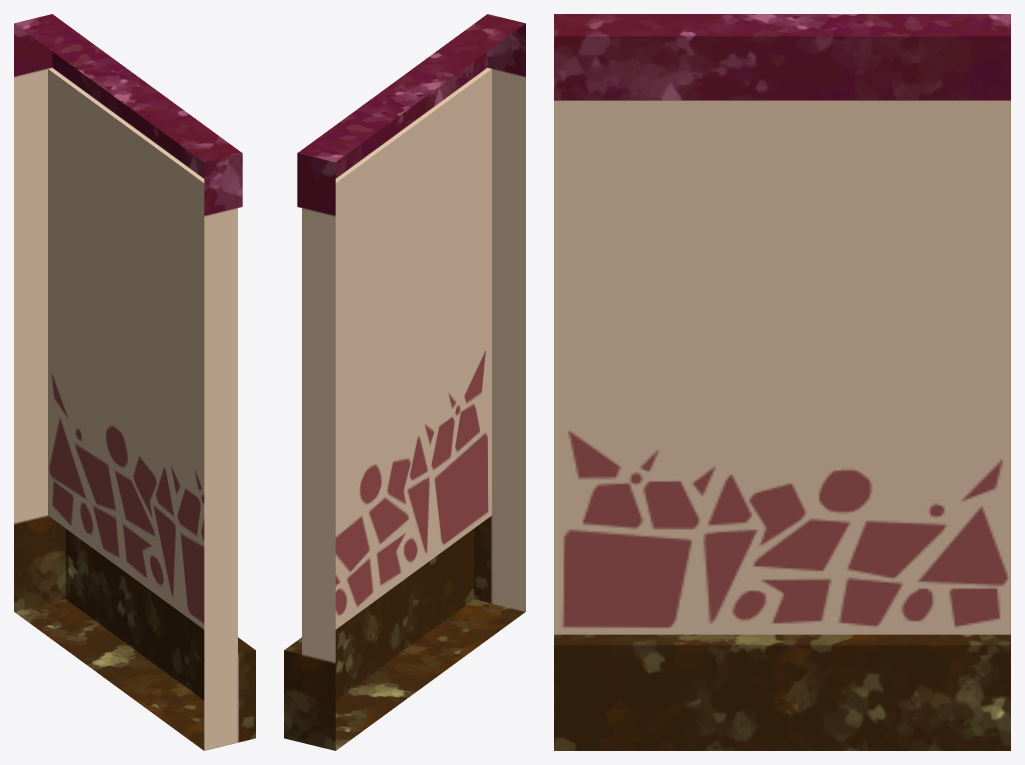
The model's file is pared base.fbx.
3 renders of one model, left to right at view 1: azimuth 30°, elevation 25°; view 2: azimuth 150°, elevation 25°; view 3: azimuth 270°, elevation 25°, orthographic. The views are drawn at different scales.
Parts seen in each view (by area): view 1: Cube.114; view 2: Cube.114; view 3: Cube.114.
Part boxes in pixels (x1,y1,x2,y2): Cube.114: [14, 14, 255, 750]; Cube.114: [284, 14, 525, 750]; Cube.114: [554, 14, 1010, 750].
Size of the model in its own units: 36.36 by 396 by 232.
